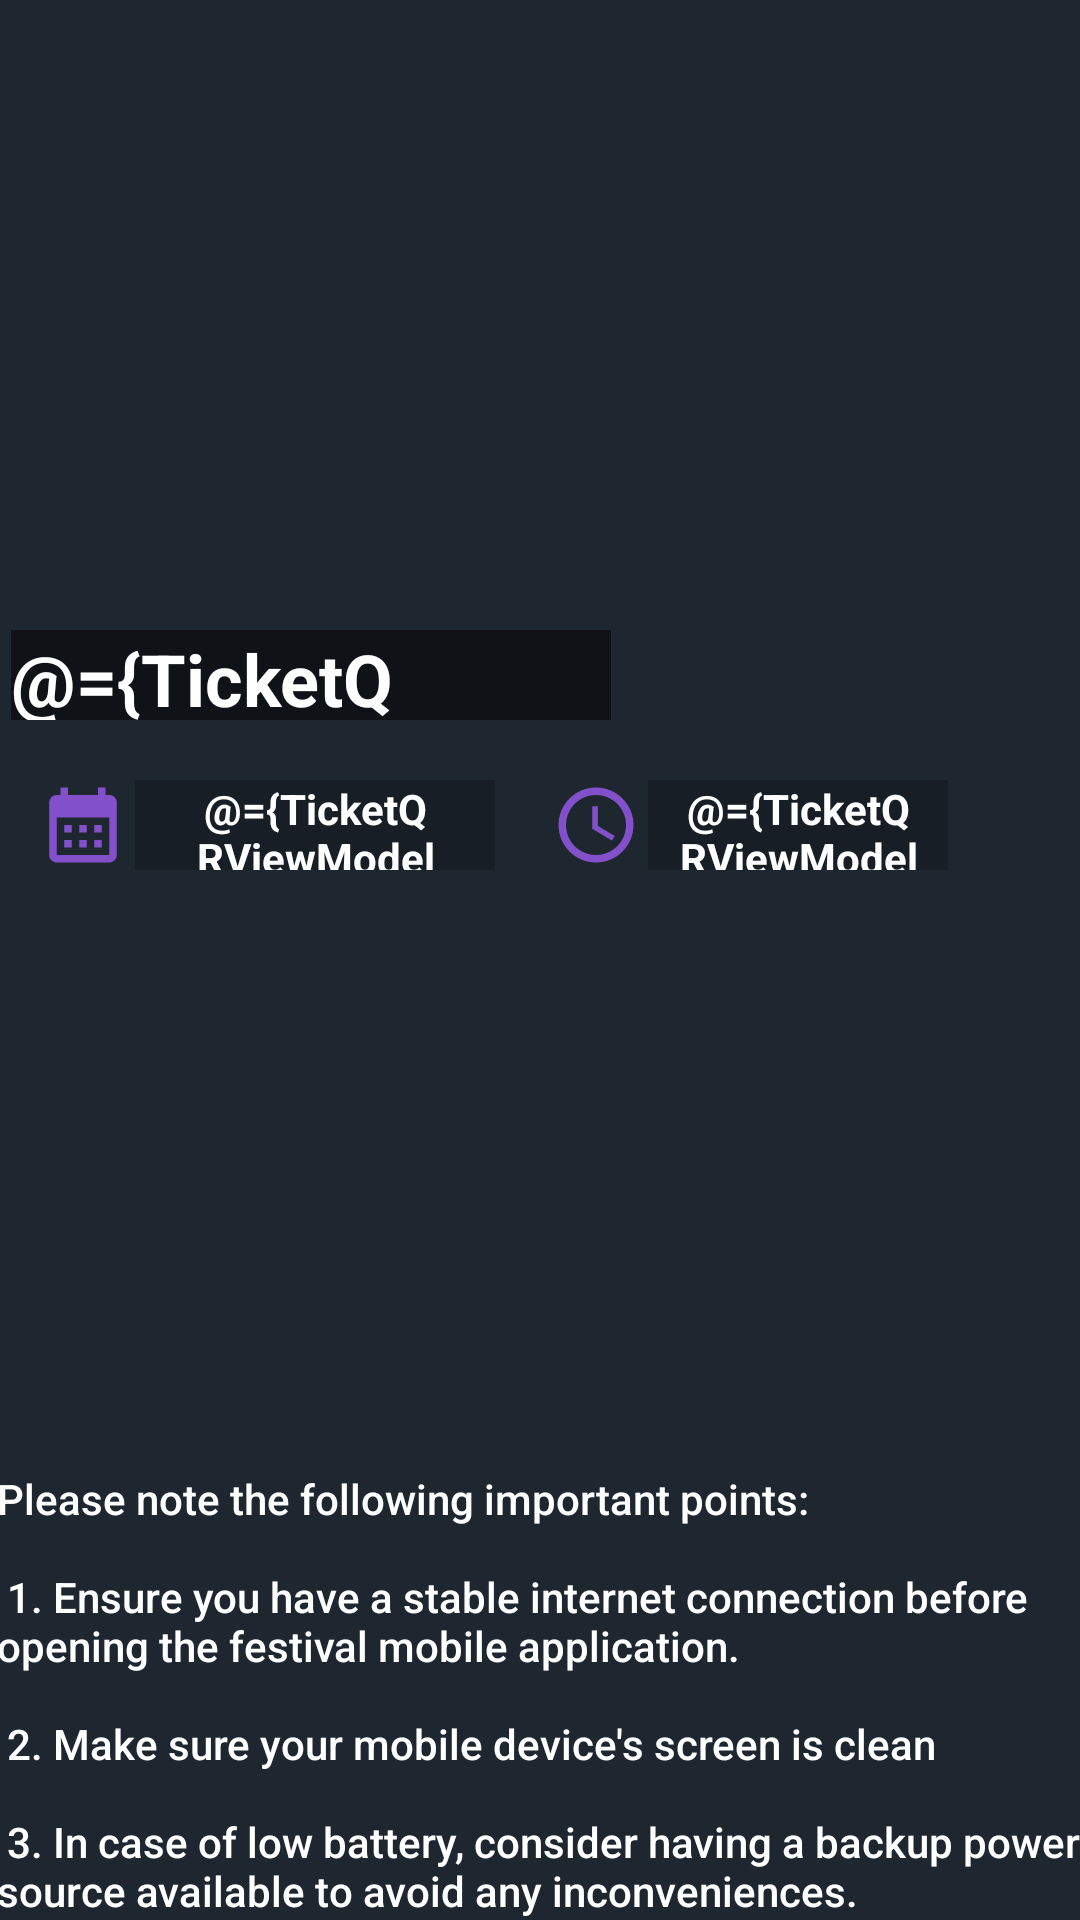

Named icons in this screenshot (1080 × 1920) and their bounding boxes, bbox=[x1, y1, x2, y2]:
access time: bbox=[558, 787, 634, 863]
calendar month: bbox=[49, 787, 117, 863]
